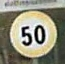limite 50: (7, 10, 58, 58)
